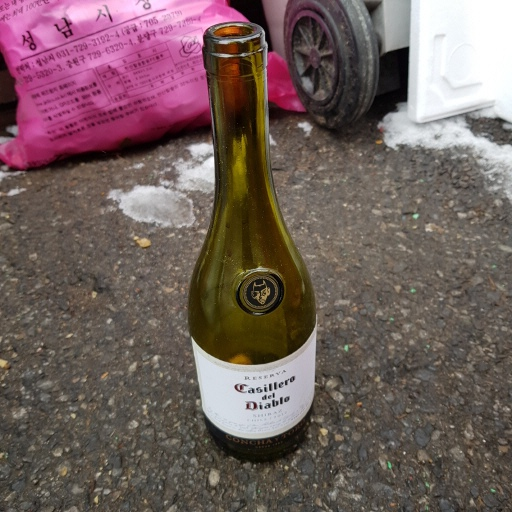Glass_2: (185, 22, 316, 461)
